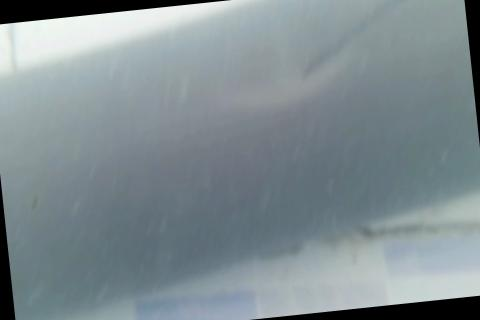keretakan: (289, 0, 471, 83)
